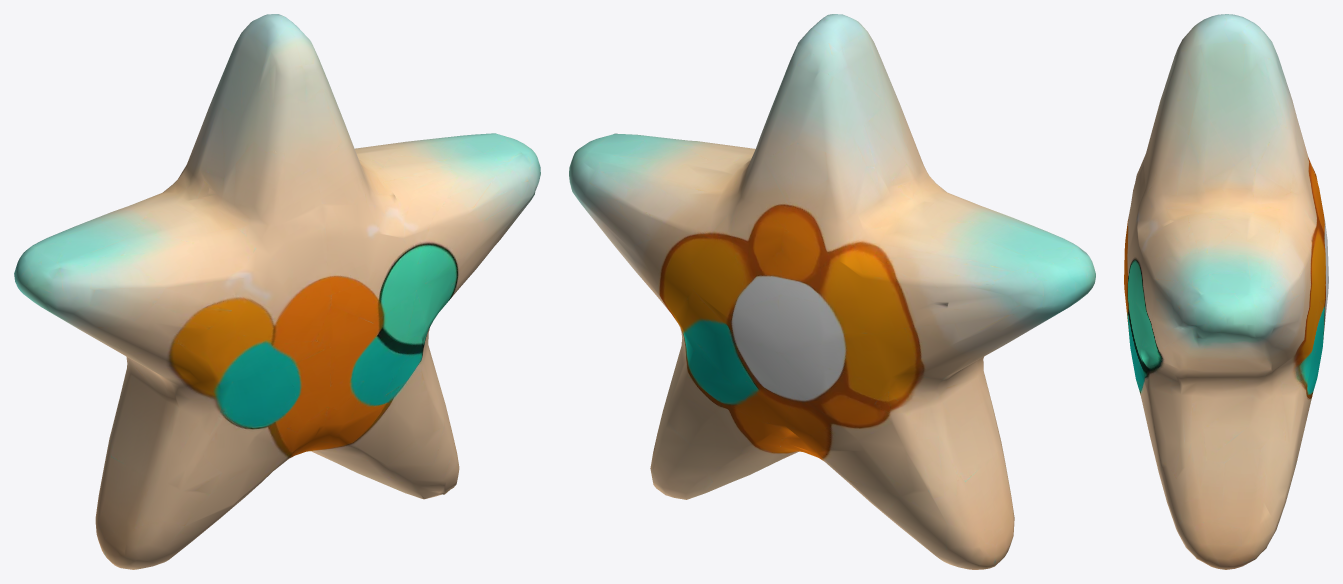
File: clay-star.glb
3 views of the same model, side by side, from view 1: azimuth 30°, elevation 25°; view 2: azimuth 150°, elevation 25°; view 3: azimuth 270°, elevation 25° (orthographic). The views are drawn at different scales.
Bounding box in the file's own units: 1.91 × 1.82 × 0.7013.
1 material, 1 textured.
